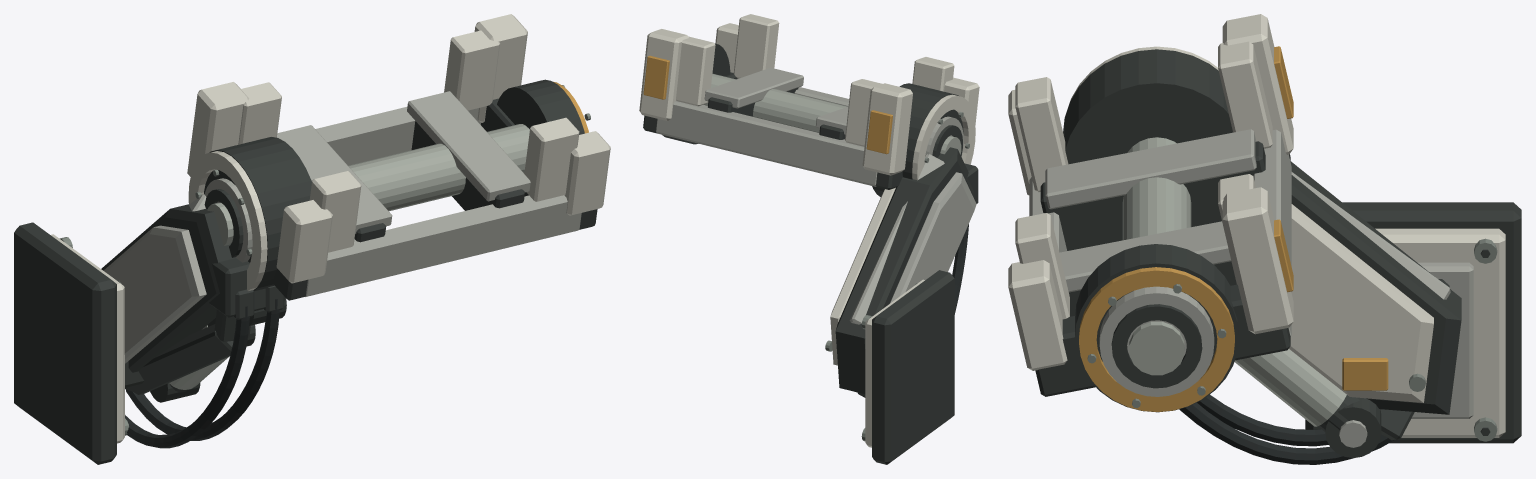
File: vertical-pods-a-hip-mount-v1.glb
3 renders of one model, left to right at view 1: azimuth 30°, elevation 25°; view 2: azimuth 150°, elevation 25°; view 3: azimuth 270°, elevation 25°, orthographic. The views are drawn at different scales.
Visible parts, largest first — view 1: HipBracket_A, RotatingCradle_A; view 2: HipBracket_A, RotatingCradle_A; view 3: HipBracket_A, RotatingCradle_A.
Boxes of the visible parts, <box> form: HipBracket_A: <box>14,124,529,464</box>; RotatingCradle_A: <box>187,14,610,300</box>; HipBracket_A: <box>704,73,978,464</box>; RotatingCradle_A: <box>639,14,979,189</box>; HipBracket_A: <box>1063,46,1521,464</box>; RotatingCradle_A: <box>1008,14,1293,412</box>.
Bounding box in the file's own units: 1.56 × 1.3 × 1.28.
